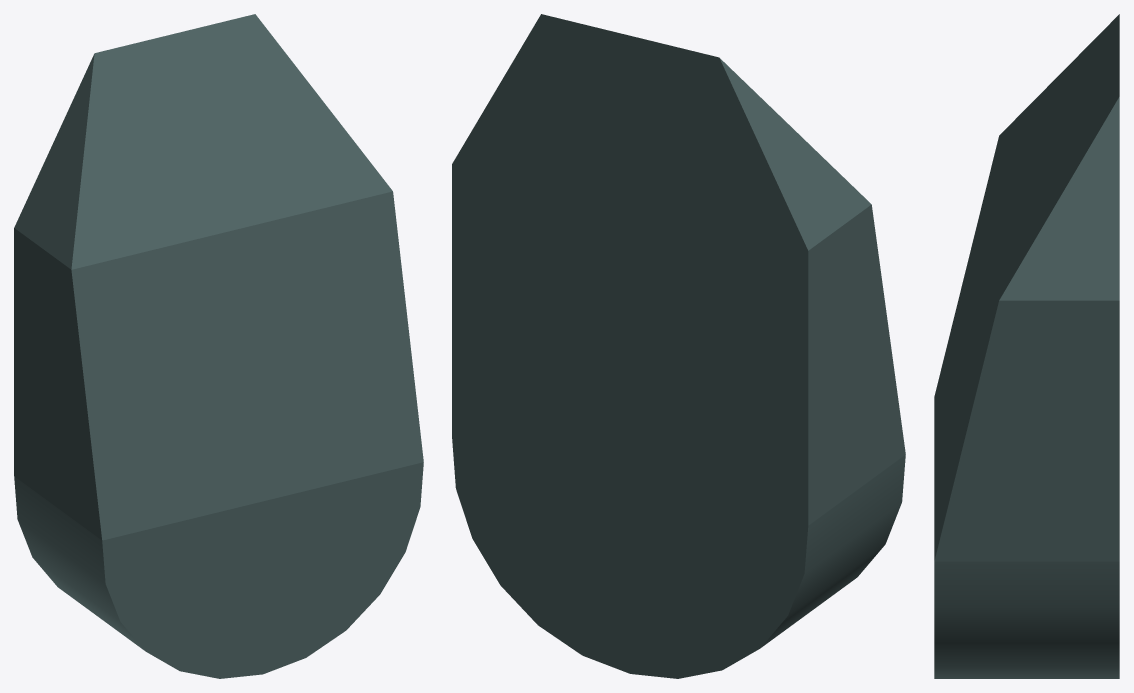
File: computerMouse.obj
The picture shows the model from 3 angles, left to right: view 1: azimuth 30°, elevation 25°; view 2: azimuth 150°, elevation 25°; view 3: azimuth 270°, elevation 25°; orthographic projection. The views are drawn at different scales.
Visible parts, largest first — view 1: computerMouse; view 2: computerMouse; view 3: computerMouse.
Part boxes in pixels (x1=…): computerMouse: x1=14, y1=14, x2=423, y2=678; computerMouse: x1=452, y1=14, x2=905, y2=678; computerMouse: x1=934, y1=14, x2=1119, y2=678.
Size of the model in its own units: 0.0994 by 0.1702 by 0.0471.
